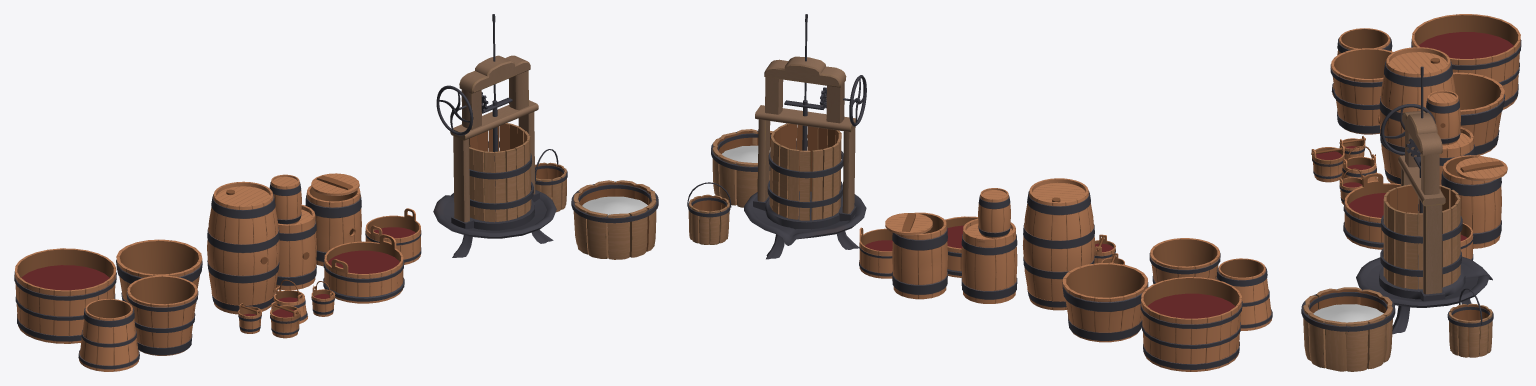
Rendered from barrels-pack.fbx.
3 views of the same model, side by side, from view 1: azimuth 30°, elevation 25°; view 2: azimuth 150°, elevation 25°; view 3: azimuth 270°, elevation 25° (orthographic). The views are drawn at different scales.
Visible parts, largest first — view 1: Vineyard_WinePress:Wine_Press_lambert1_0, barrel_lrg_barrel_mat_0, tub_large_tubs_0, Vineyard_Grape_Bucket:Grape_Bucket_lambert1_0, tub_tall_wide_tubs_0, tub_med_tubs_0, tub_tall_narrow_tubs_0, tub_01_barrel_mat_0, barrelOpen_med_barrel_mat_0, barrel_med_barrel_mat_0, tub_small_tubs_0, barrel_sml_barrel_mat_0 (+6 smaller); view 2: Vineyard_WinePress:Wine_Press_lambert1_0, tub_large_tubs_0, barrel_lrg_barrel_mat_0, tub_01_barrel_mat_0, barrel_med_barrel_mat_0, barrelOpen_med_barrel_mat_0, Vineyard_Grape_Bucket:Grape_Bucket_lambert1_0, tub_tall_wide_tubs_0, tub_tall_narrow_tubs_0, Vineyard_Bucket:Bucket_lambert1_0, tub_small_tubs_0, barrel_sml_barrel_mat_0 (+2 smaller); view 3: Vineyard_WinePress:Wine_Press_lambert1_0, Vineyard_Grape_Bucket:Grape_Bucket_lambert1_0, tub_large_tubs_0, barrel_lrg_barrel_mat_0, tub_tall_wide_tubs_0, barrelOpen_med_barrel_mat_0, tub_01_barrel_mat_0, tub_med_tubs_0, Vineyard_Bucket:Bucket_lambert1_0, barrel_sml_barrel_mat_0, tub_tall_narrow_tubs_0, barrelLid_med_barrel_mat_0 (+6 smaller).
Boxes of the visible parts, x1=… form: Vineyard_WinePress:Wine_Press_lambert1_0: x1=433, y1=14, x2=556, y2=257; barrel_lrg_barrel_mat_0: x1=207, y1=181, x2=279, y2=314; tub_large_tubs_0: x1=14, y1=248, x2=116, y2=343; Vineyard_Grape_Bucket:Grape_Bucket_lambert1_0: x1=571, y1=180, x2=658, y2=259; tub_tall_wide_tubs_0: x1=126, y1=275, x2=198, y2=355; tub_med_tubs_0: x1=323, y1=234, x2=404, y2=303; tub_tall_narrow_tubs_0: x1=78, y1=299, x2=139, y2=371; tub_01_barrel_mat_0: x1=116, y1=239, x2=202, y2=303; barrelOpen_med_barrel_mat_0: x1=305, y1=185, x2=361, y2=266; barrel_med_barrel_mat_0: x1=276, y1=205, x2=316, y2=290; tub_small_tubs_0: x1=365, y1=208, x2=421, y2=264; barrel_sml_barrel_mat_0: x1=269, y1=174, x2=301, y2=224; Vineyard_WinePress:Wine_Press_lambert1_0: x1=744, y1=14, x2=866, y2=259; tub_large_tubs_0: x1=1140, y1=277, x2=1242, y2=371; barrel_lrg_barrel_mat_0: x1=1022, y1=178, x2=1095, y2=310; tub_01_barrel_mat_0: x1=1062, y1=263, x2=1148, y2=342; barrel_med_barrel_mat_0: x1=961, y1=218, x2=1017, y2=303; barrelOpen_med_barrel_mat_0: x1=892, y1=212, x2=947, y2=299; Vineyard_Grape_Bucket:Grape_Bucket_lambert1_0: x1=711, y1=129, x2=796, y2=207; tub_tall_wide_tubs_0: x1=1149, y1=238, x2=1220, y2=283; tub_tall_narrow_tubs_0: x1=1216, y1=258, x2=1272, y2=330; Vineyard_Bucket:Bucket_lambert1_0: x1=687, y1=182, x2=731, y2=244; tub_small_tubs_0: x1=859, y1=227, x2=892, y2=278; barrel_sml_barrel_mat_0: x1=978, y1=188, x2=1010, y2=238; Vineyard_WinePress:Wine_Press_lambert1_0: x1=1356, y1=66, x2=1492, y2=334; Vineyard_Grape_Bucket:Grape_Bucket_lambert1_0: x1=1301, y1=287, x2=1395, y2=371; tub_large_tubs_0: x1=1411, y1=14, x2=1521, y2=109; barrel_lrg_barrel_mat_0: x1=1378, y1=47, x2=1455, y2=184; tub_tall_wide_tubs_0: x1=1330, y1=48, x2=1393, y2=134; barrelOpen_med_barrel_mat_0: x1=1441, y1=155, x2=1501, y2=248; tub_01_barrel_mat_0: x1=1453, y1=72, x2=1505, y2=155; tub_med_tubs_0: x1=1343, y1=173, x2=1400, y2=249; Vineyard_Bucket:Bucket_lambert1_0: x1=1447, y1=288, x2=1493, y2=357; barrel_sml_barrel_mat_0: x1=1426, y1=90, x2=1460, y2=145; tub_tall_narrow_tubs_0: x1=1331, y1=28, x2=1392, y2=97; barrelLid_med_barrel_mat_0: x1=1456, y1=157, x2=1507, y2=181.
Bounding box in the file's own units: 1533 × 579 × 471.
